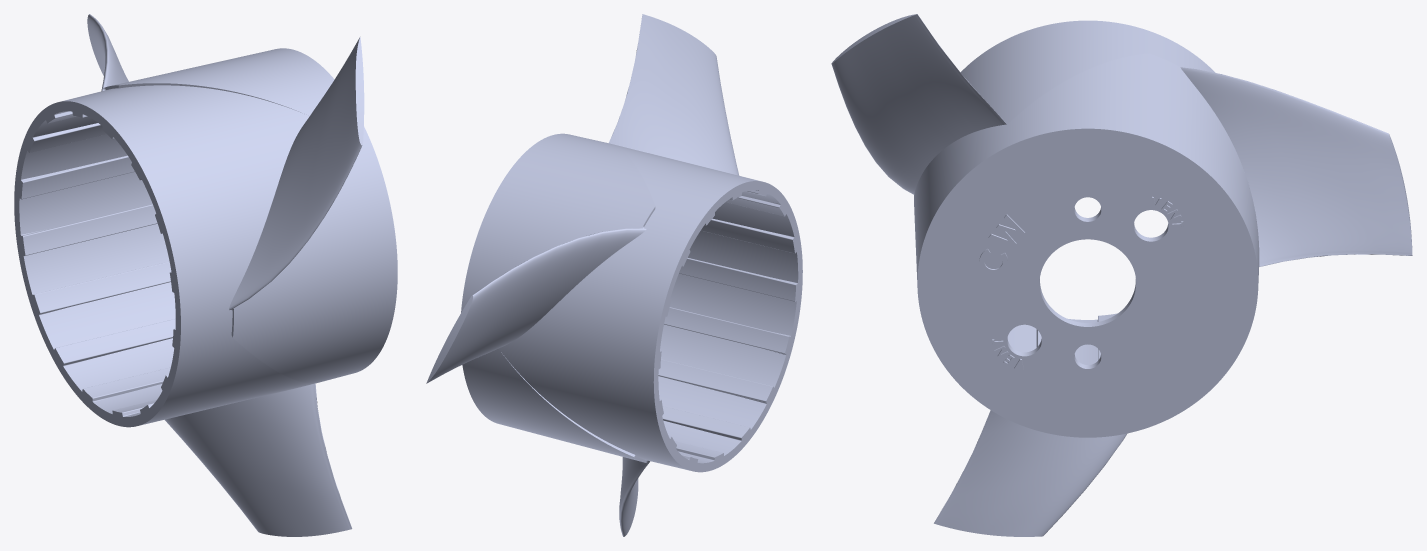
File: T200 PROP.dae
3 renders of one model, left to right at view 1: azimuth 30°, elevation 25°; view 2: azimuth 150°, elevation 25°; view 3: azimuth 270°, elevation 25°, orthographic. The views are drawn at different scales.
Parts seen in each view (by area): view 1: ID2; view 2: ID2; view 3: ID2.
Boxes of the visible parts, box(x1,y1,x2,y2) form: ID2: box(14, 14, 397, 536); ID2: box(426, 14, 802, 536); ID2: box(831, 14, 1412, 536).
Size of the model in its own units: 0.0302 by 0.0682 by 0.0702.
